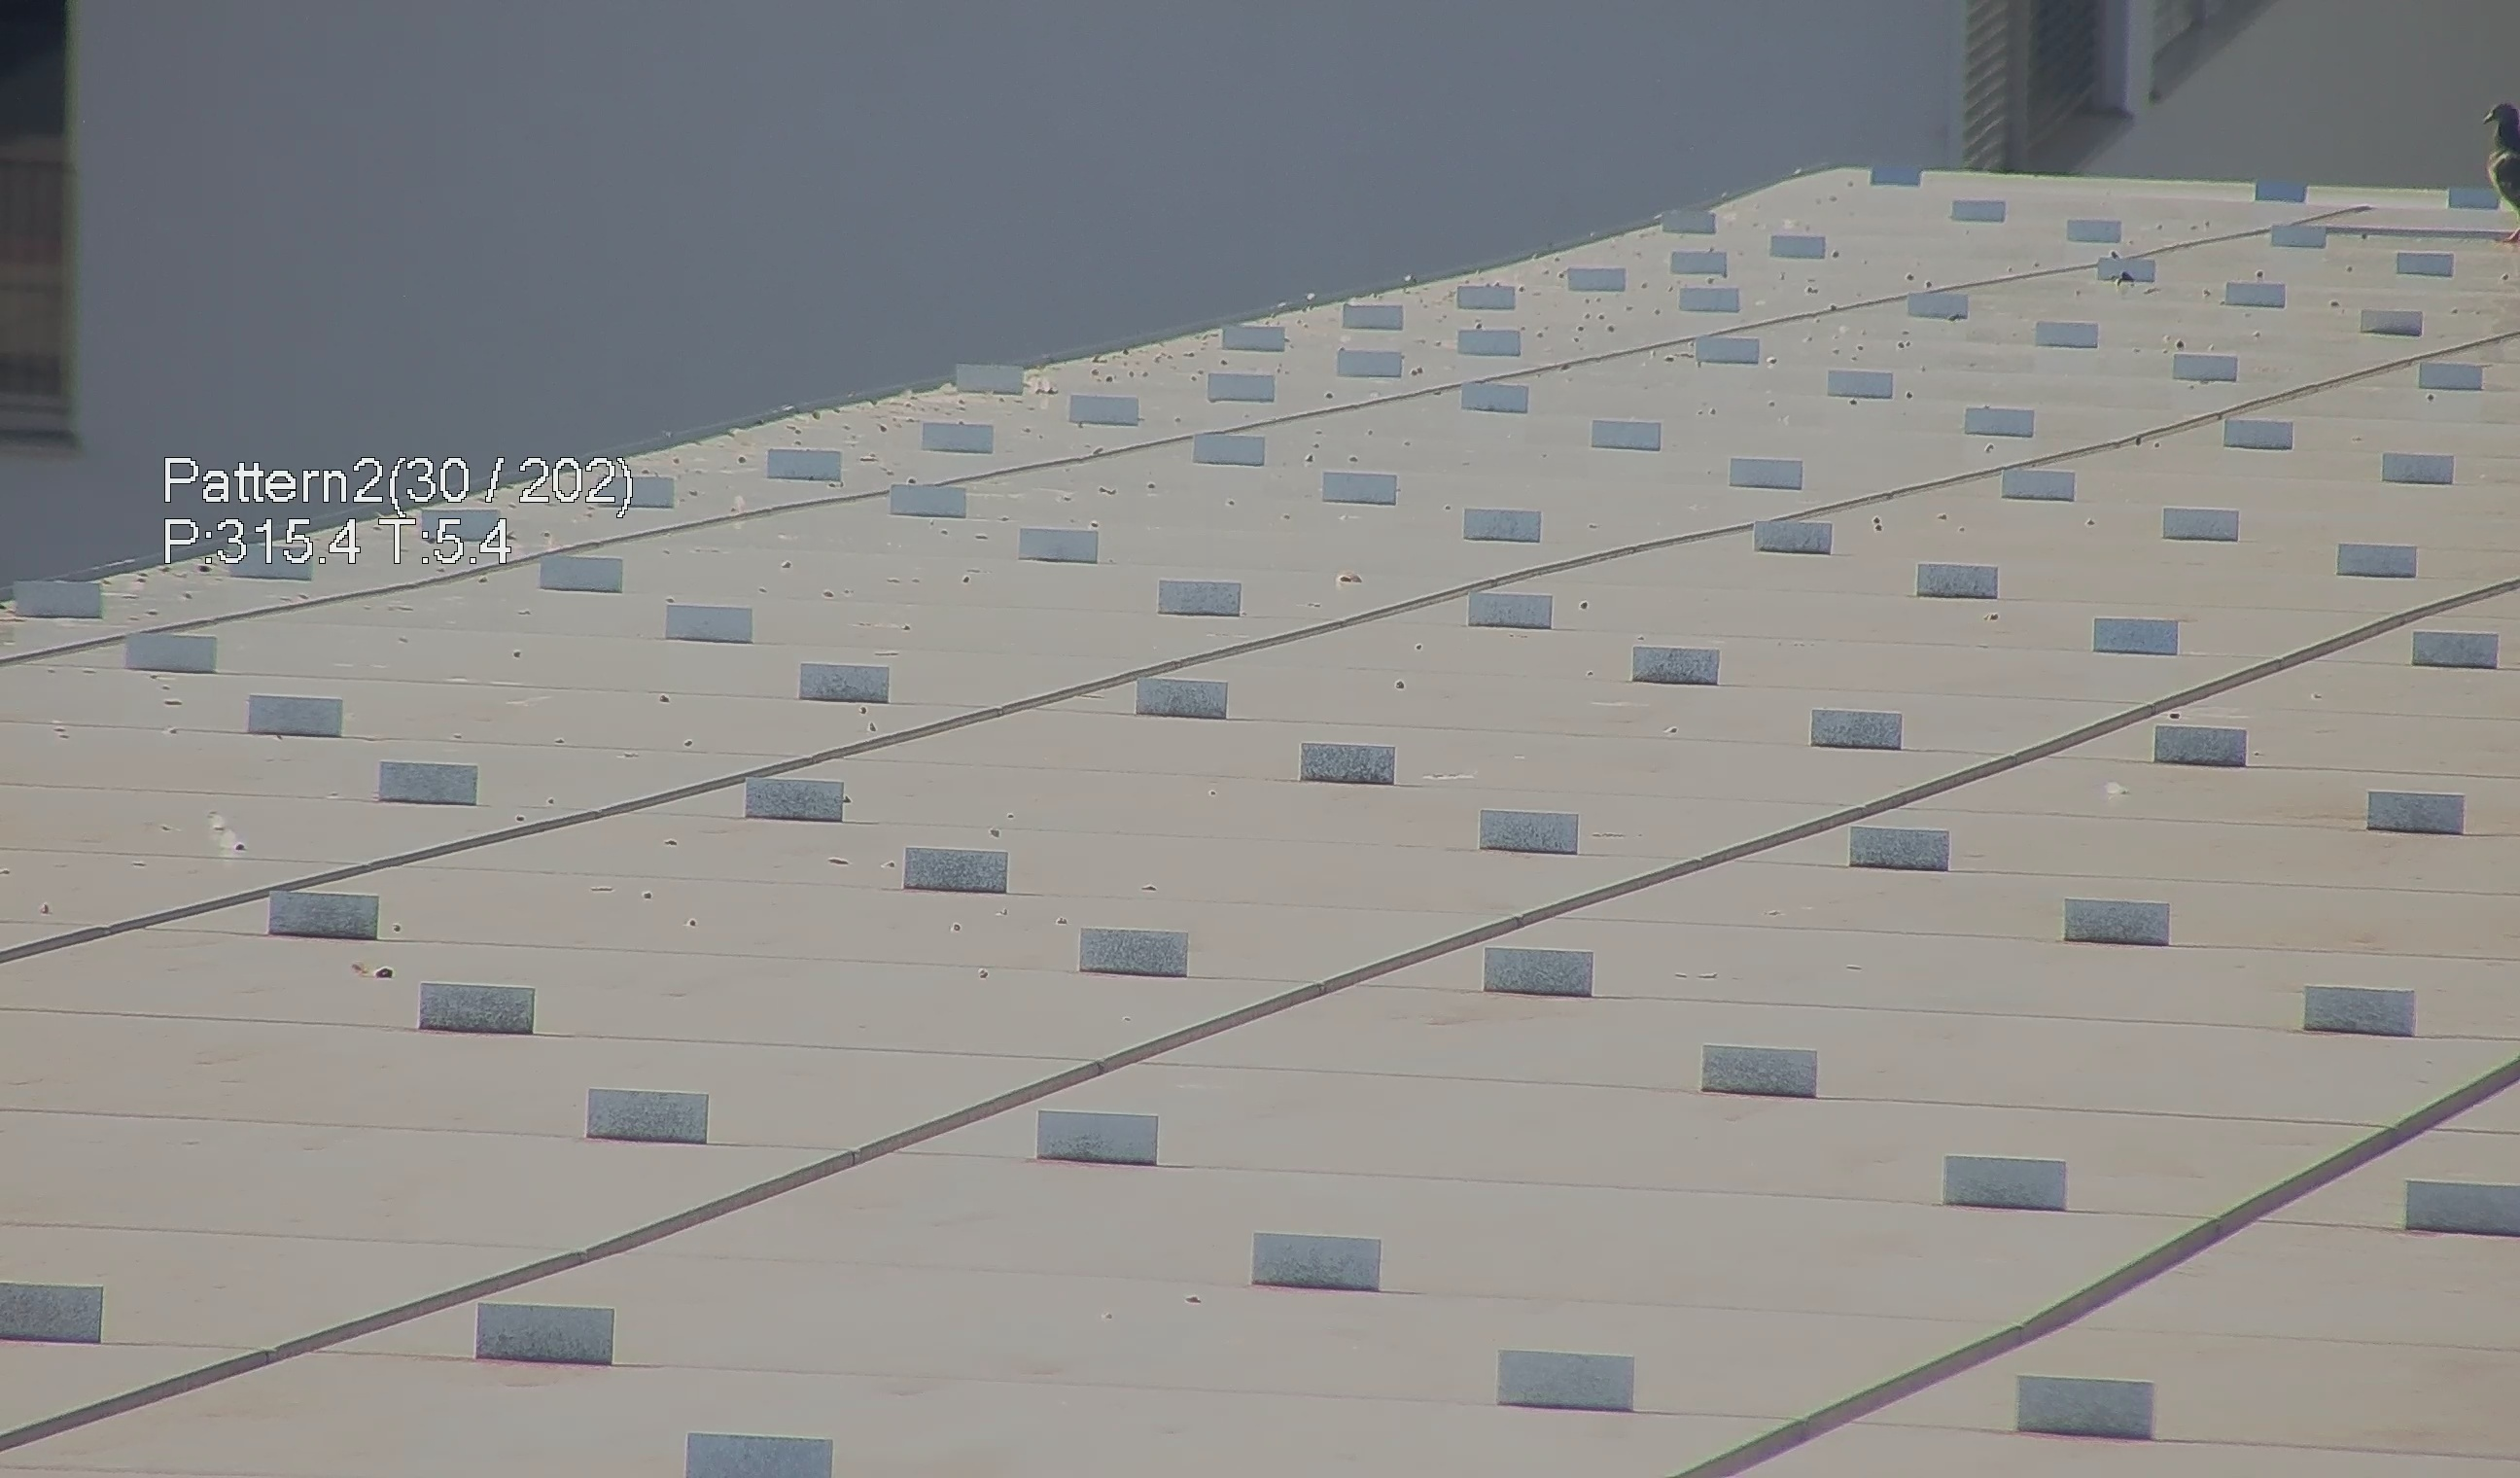Pigeon: (2487, 100, 2520, 245)
